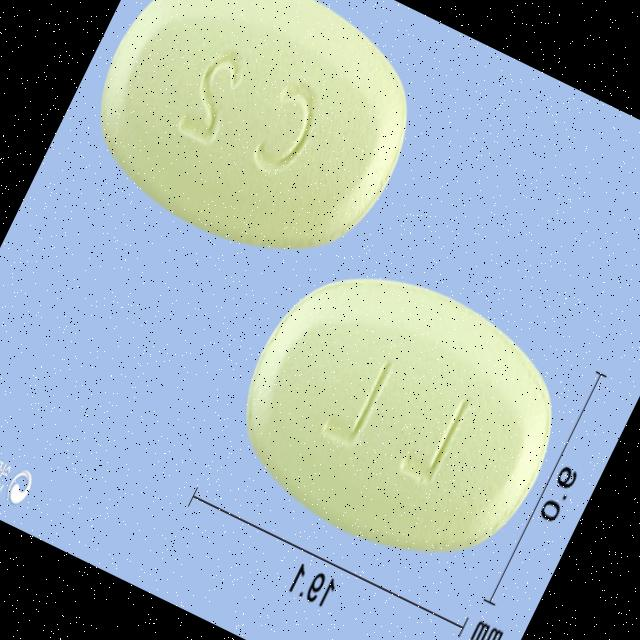Clratomin: (204, 231, 590, 597), (61, 0, 446, 289)
